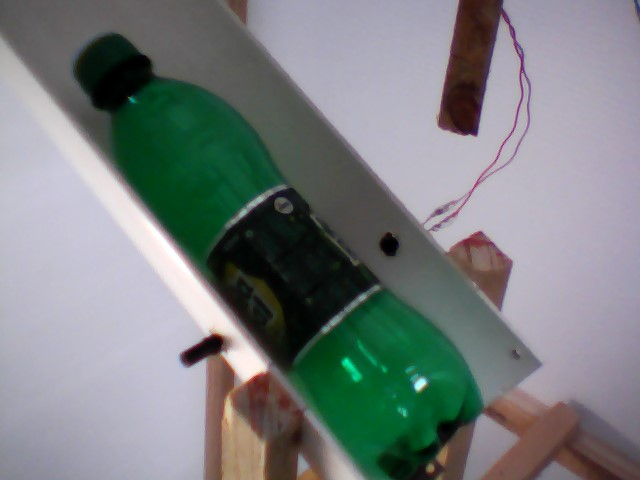plastico: (70, 25, 495, 480)
